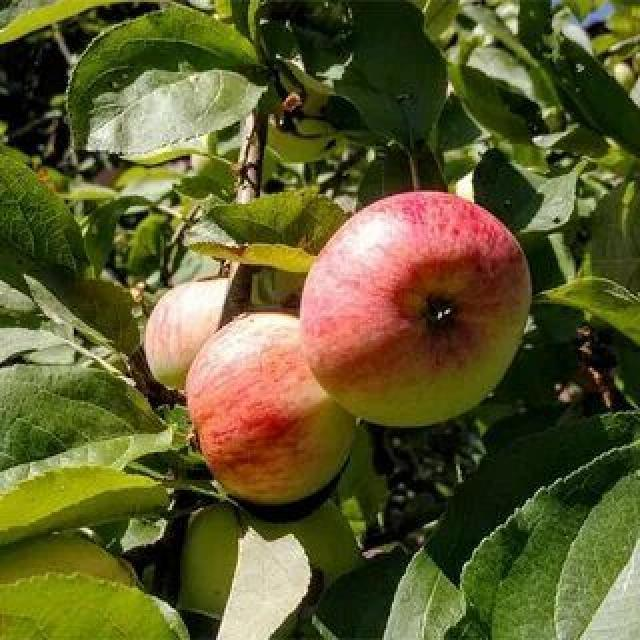Fresh Apple: (298, 193, 532, 425), (180, 308, 355, 504), (143, 278, 237, 380)
